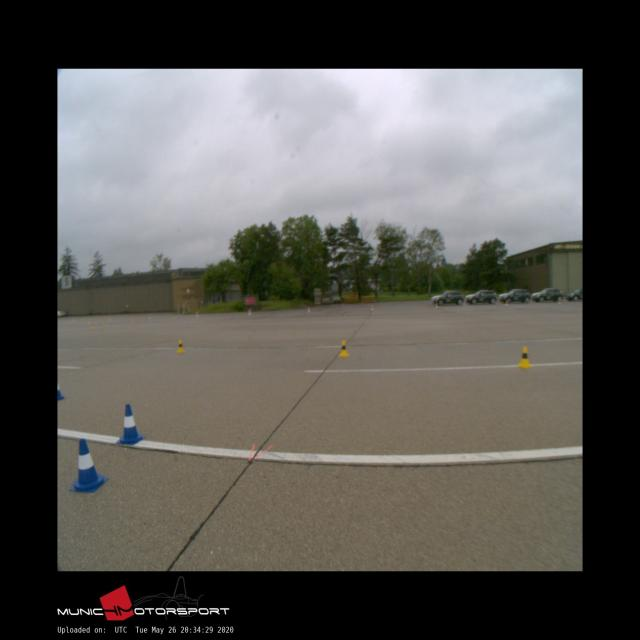blue_cone: (70, 439, 108, 492), (116, 404, 146, 444)
yellow_cone: (518, 347, 532, 367), (339, 341, 349, 356), (177, 340, 184, 353)
